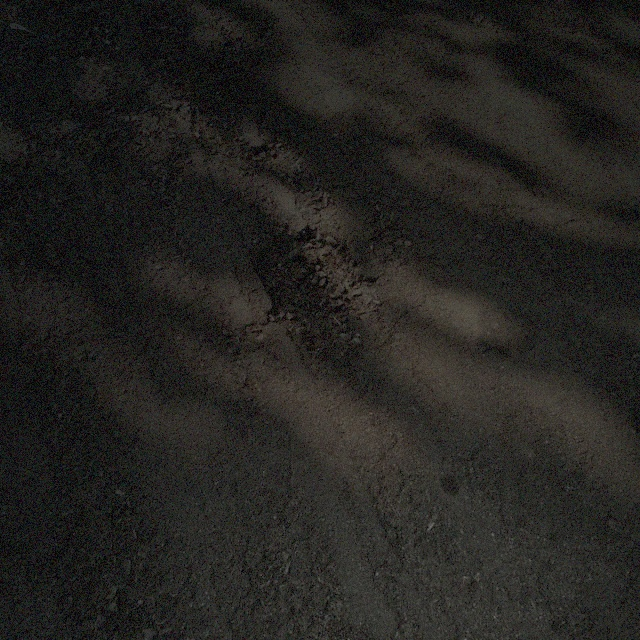pothole: (247, 230, 381, 352)
